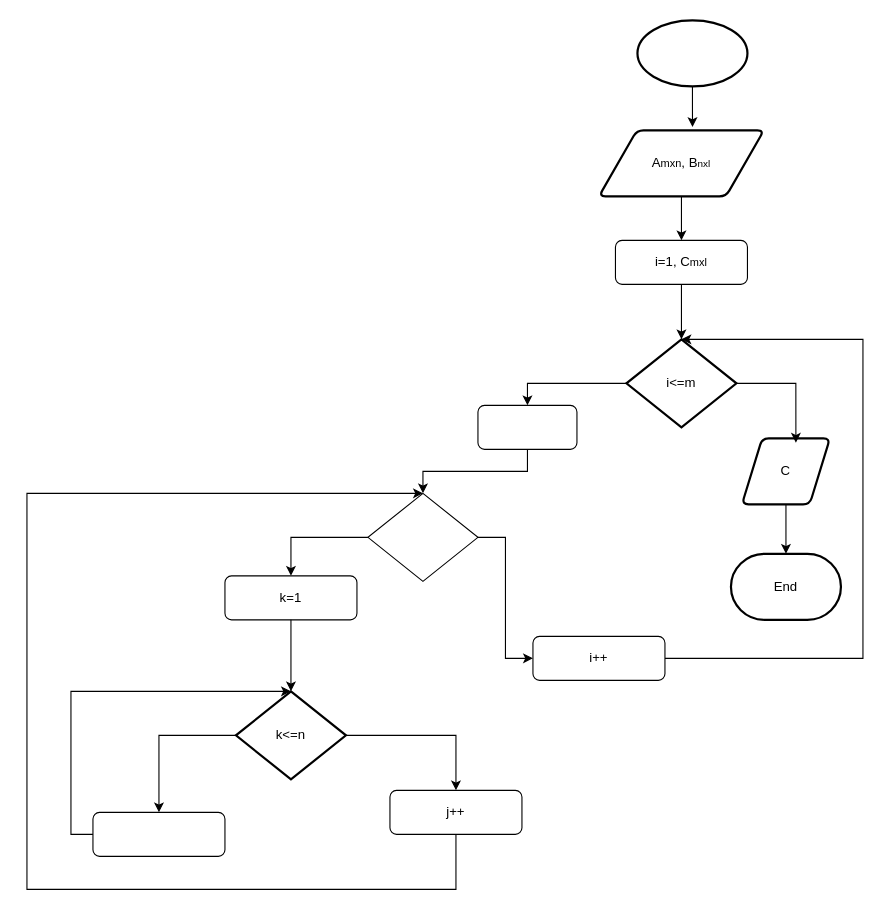
Some shapes in this 891 by 917 pixel diagram are drawn without their labels. Each missing label, with the box of its shape:
C ij += A ik * B kj, k++: (92, 811, 225, 856)
j<=l: (367, 492, 478, 581)
j=1: (477, 404, 577, 449)
Start: (636, 19, 748, 87)
